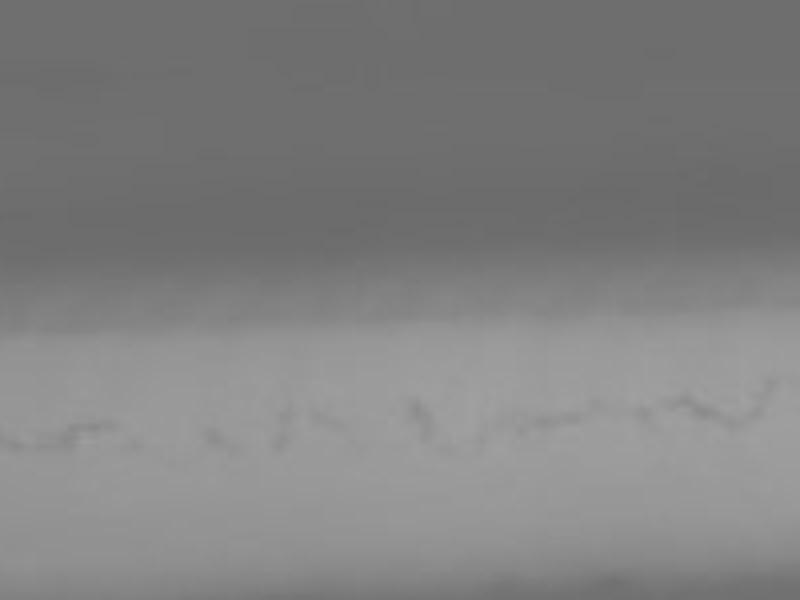defect: (406, 396, 439, 445), (70, 415, 118, 437), (312, 406, 347, 434), (753, 373, 783, 401), (1, 437, 40, 458), (276, 402, 304, 429), (48, 427, 77, 451), (670, 390, 699, 413), (271, 435, 298, 459), (740, 406, 768, 428), (198, 423, 222, 448), (527, 409, 551, 433), (636, 405, 660, 429), (560, 410, 587, 431), (127, 436, 150, 457), (723, 418, 743, 437), (695, 408, 723, 421), (584, 402, 604, 417)
